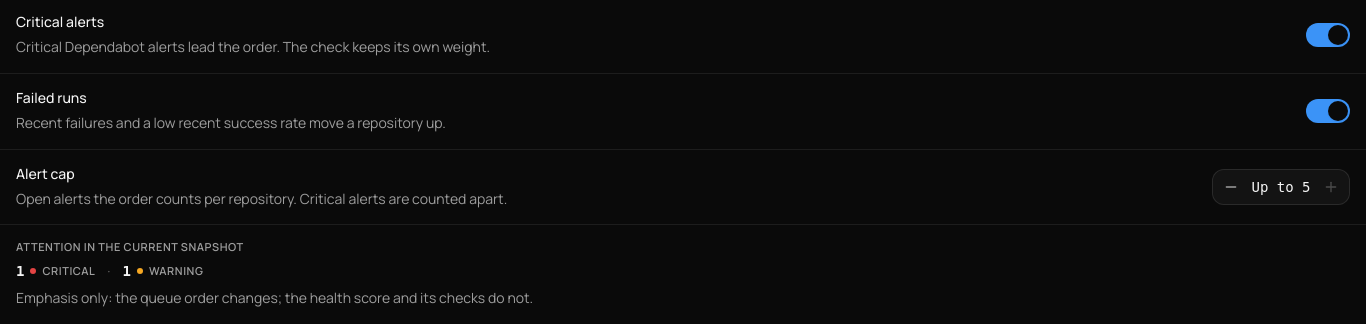
Scenario: AttentionSettingsControls › steps the alert cap down to zero and back, with the live value in the group
This screenshot has width=1366, height=324.
Click the button named "Fewer" at (1231, 187), box [1213,169,1249,205]
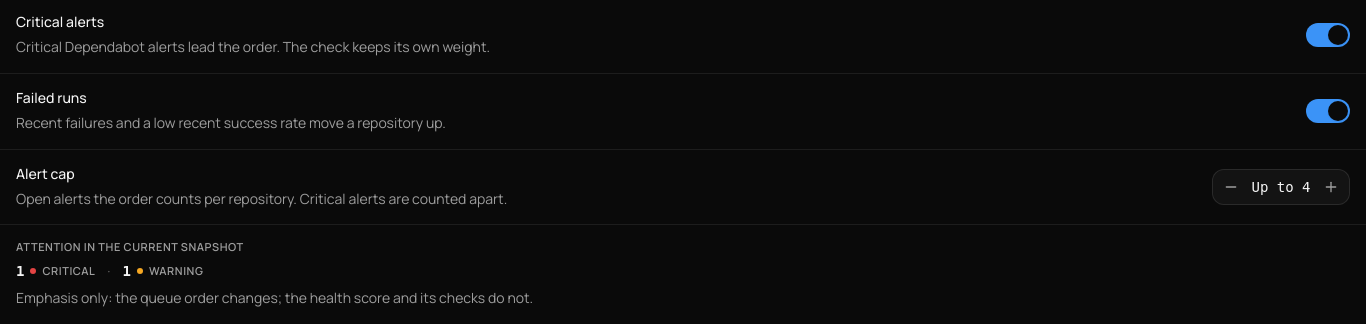
Click the button named "Fewer" at (1231, 187), box [1213,169,1249,205]
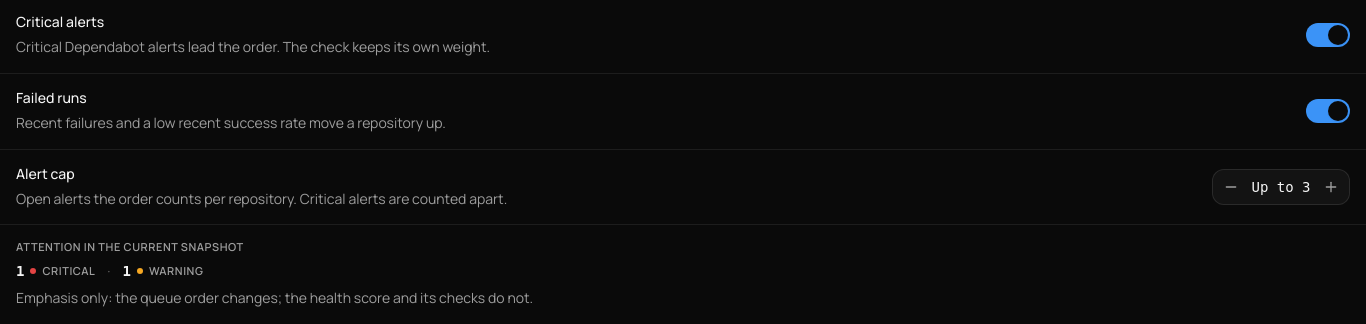
Click the button named "Fewer" at (1231, 187), box [1213,169,1249,205]
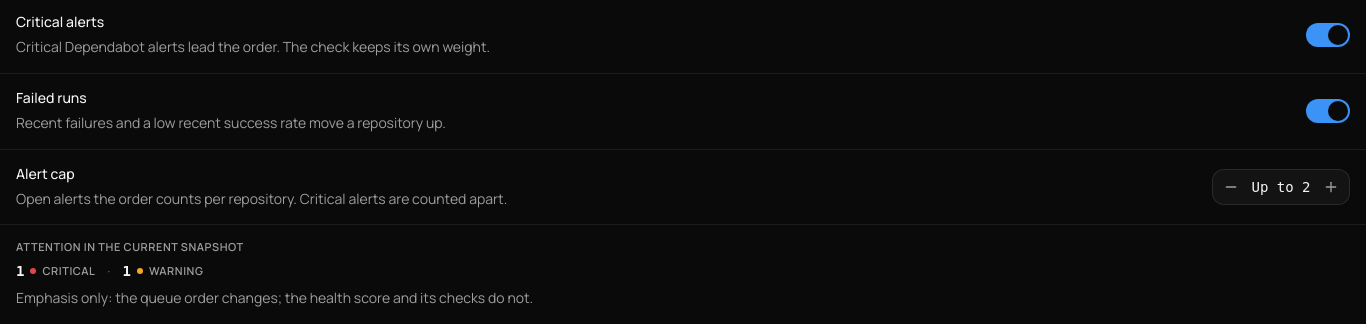
Click the button named "Fewer" at (1231, 187), box [1213,169,1249,205]
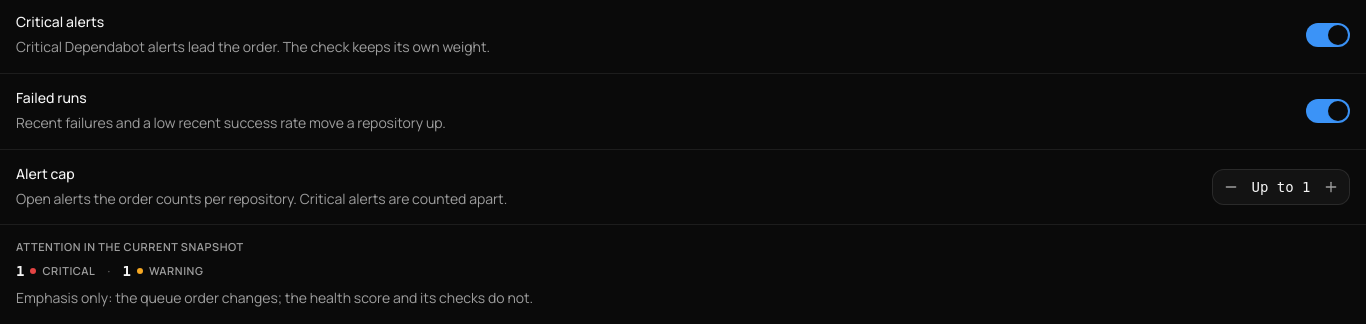
Click the button named "Fewer" at (1231, 187), box [1213,169,1249,205]
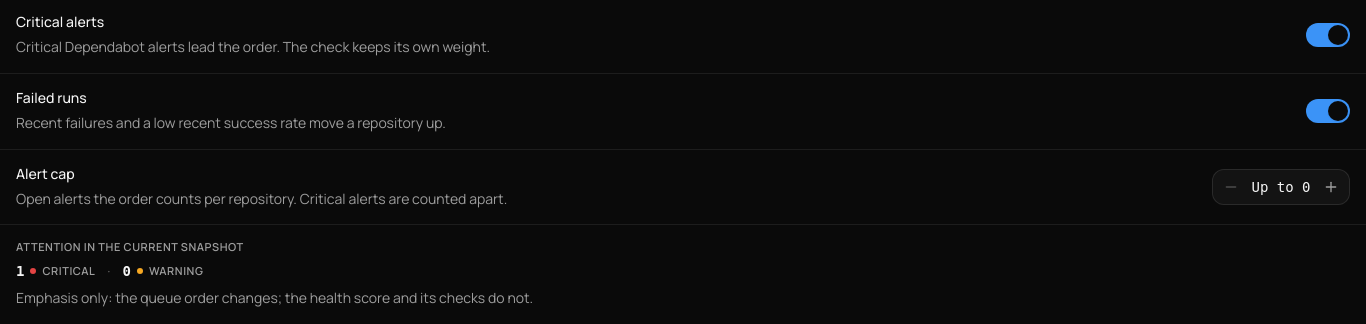
Check: the element named "Alert cap" reads "Up to 0", box [1252,179,1310,195]
Check: the element with test id "attention-preview" reads "1 Critical · 0 Warning", box [16,261,203,280]
Click the button named "More" at (1331, 187), box [1313,169,1349,205]
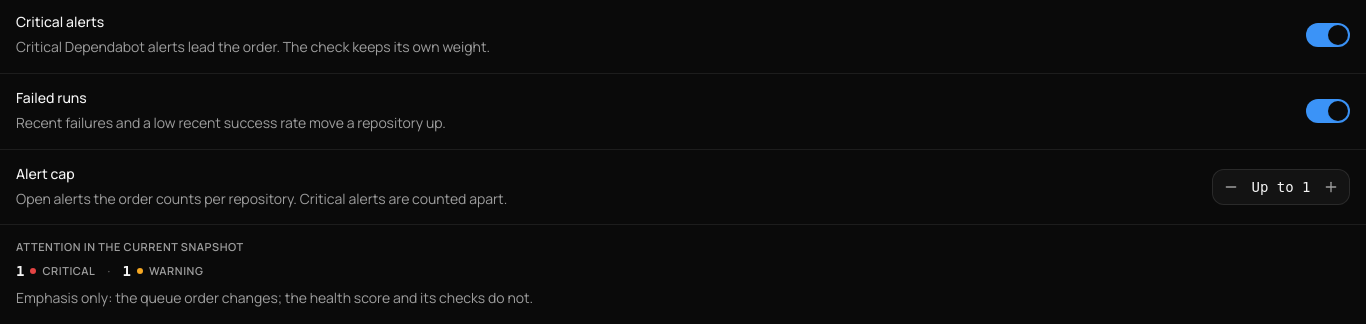
Check: the element named "Alert cap" reads "Up to 1", box [1252,179,1310,195]
Check: the element with test id "attention-preview" reads "1 Critical · 1 Warning", box [16,261,203,280]
